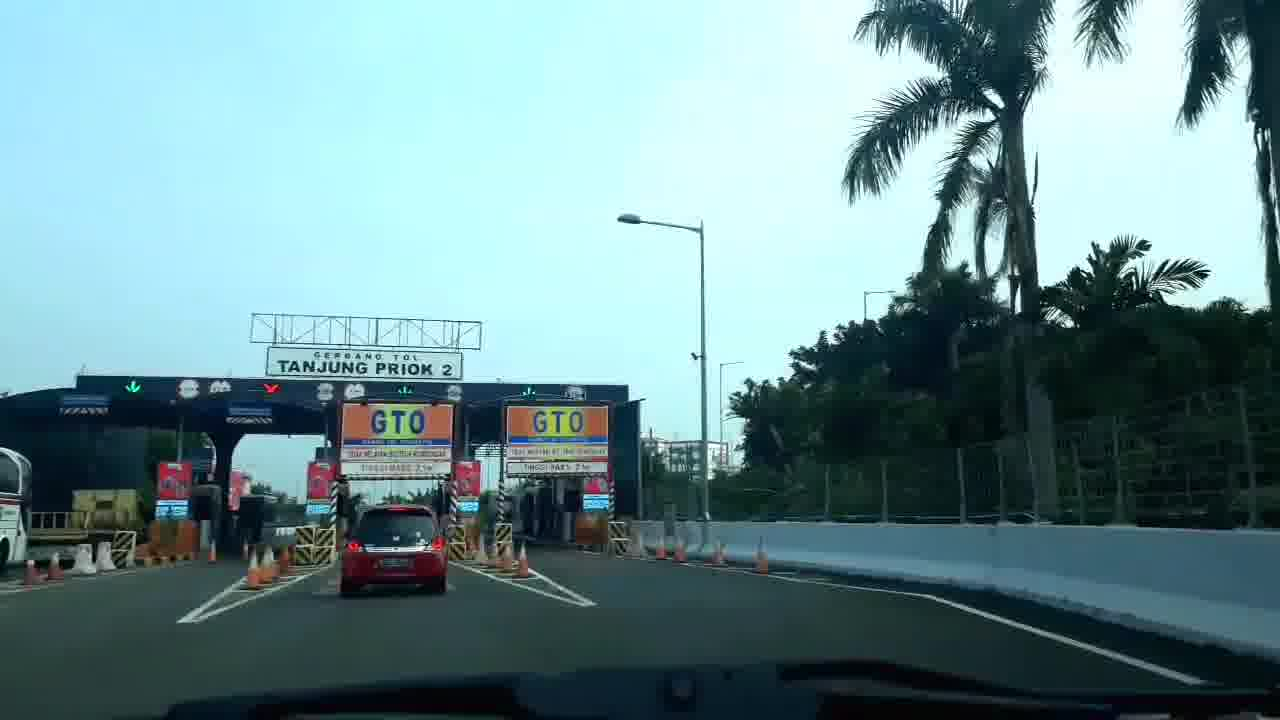plate_positive: (379, 558, 412, 569)
